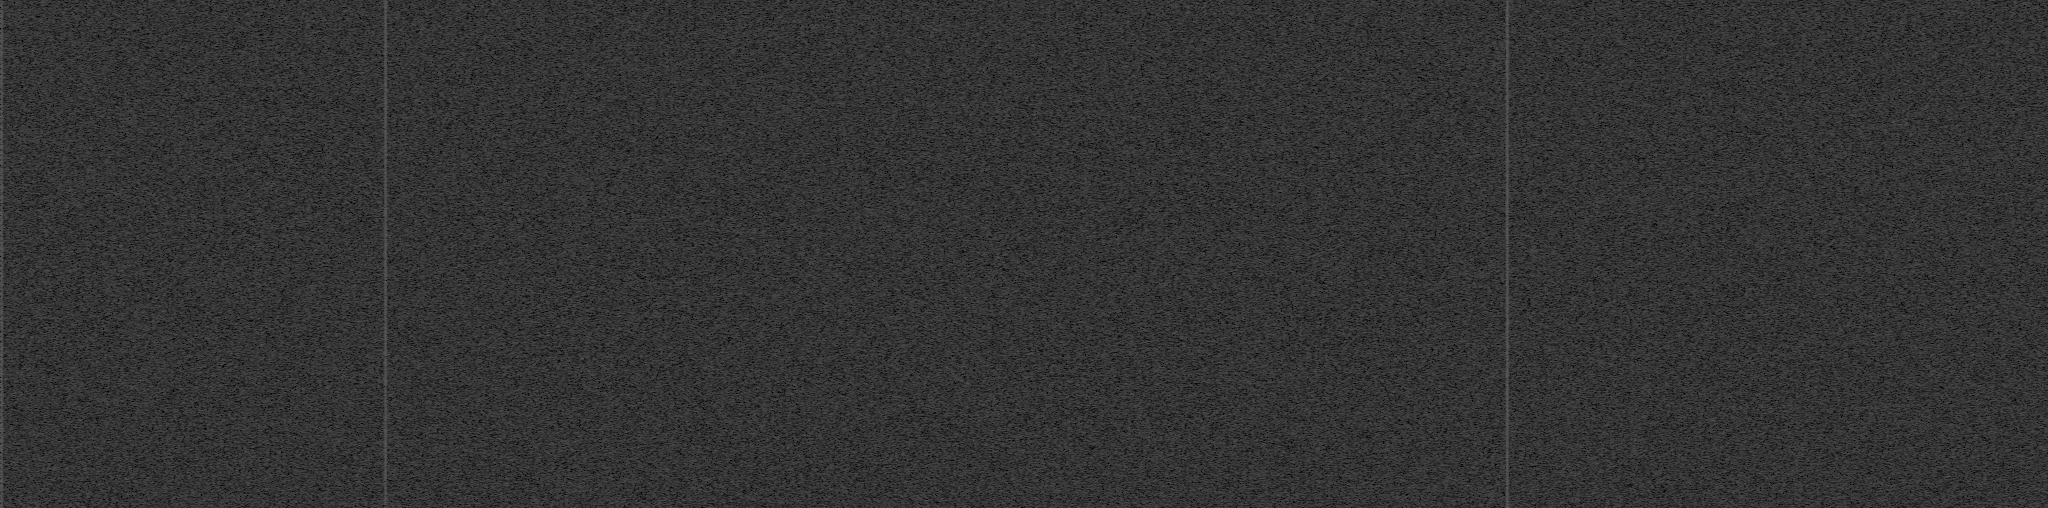wv_am: (383, 1, 388, 505)
wv_cw: (1505, 0, 1510, 508), (0, 0, 4, 508)
